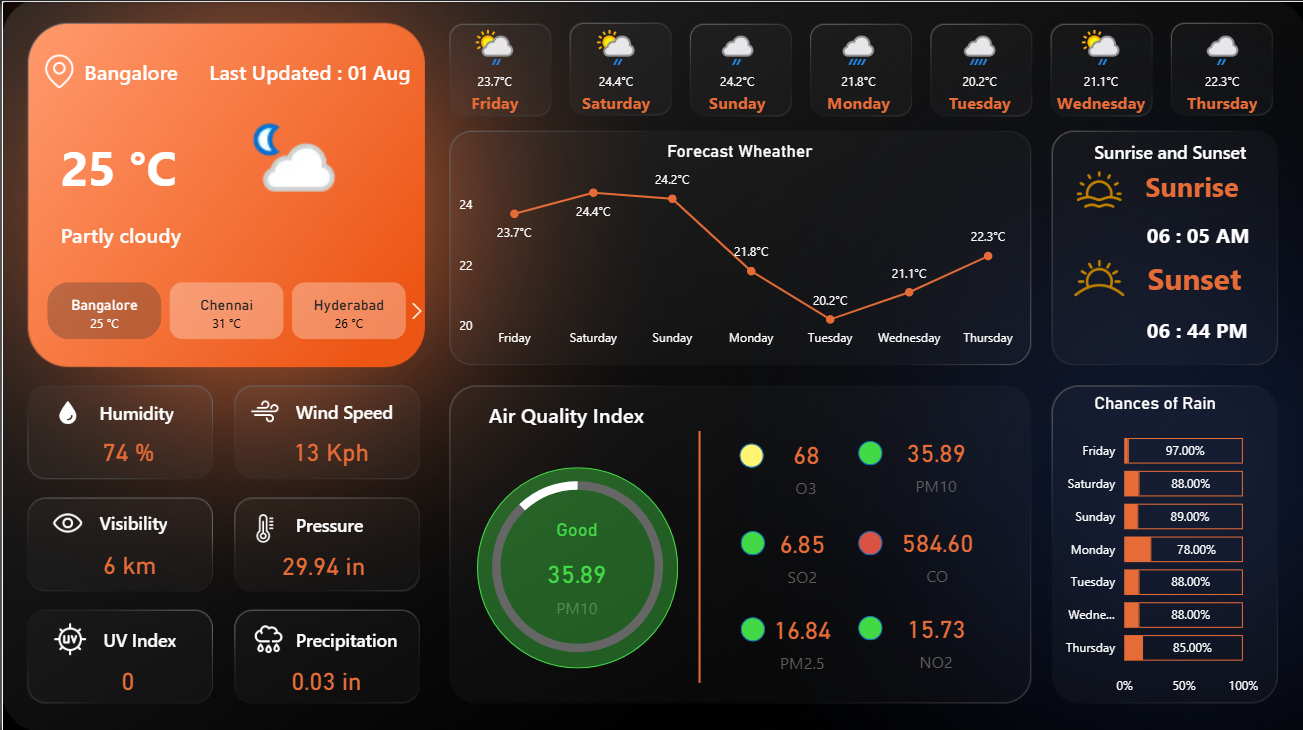

Layout of this report page (visuals, bound fields, positions):
{"tool":"powerbi","page":{"name":"Page 1","canvas":[1280,720],"ordinal":0},"visuals":[{"type":"advancedSlicerVisual","fields":{"Values":["Locations.location.name"]},"box":[20,271.2,403.8,66.2],"z":0},{"type":"shape","box":[57.5,131.2,125,62.5],"z":1000},{"type":"shape","box":[57.5,212.5,300,33.8],"z":2000},{"type":"shape","box":[81.2,52.5,150,32.5],"z":3000},{"type":"shape","box":[203.8,51.2,220,33.8],"z":4000},{"type":"image","box":[32.5,47.5,48.8,42.5],"z":5000},{"type":"cardVisual","fields":{"Data":["Min(current.current.condition.icon)"]},"box":[215,97.5,136.2,115],"z":6000},{"type":"image","box":[47.5,386.2,33.8,35],"z":7000},{"type":"shape","box":[96.2,387.5,95,33.8],"z":8000},{"type":"shape","box":[288.8,386.2,111.2,33.8],"z":9000},{"type":"image","box":[238.8,383.8,37.5,37.5],"z":10000},{"type":"image","box":[42.5,491.2,43.8,43.8],"z":11000},{"type":"shape","box":[96.2,496.2,95,33.8],"z":12000},{"type":"image","box":[238.8,496.2,37.5,43.8],"z":13000},{"type":"shape","box":[288.8,497.5,111.2,33.8],"z":14000},{"type":"image","box":[42.5,605,47.5,43.8],"z":15000},{"type":"shape","box":[100,610,111.2,33.8],"z":16000},{"type":"image","box":[238.8,605,45,43.8],"z":17000},{"type":"shape","box":[288.8,610,111.2,33.8],"z":18000},{"type":"card","fields":{"Values":["_Measures.Humidity"]},"box":[78.8,420,91.2,46.2],"z":19000},{"type":"card","fields":{"Values":["_Measures.Wind_Speed"]},"box":[257.5,420,131.2,46.2],"z":20000},{"type":"card","fields":{"Values":["_Measures.Visibility"]},"box":[75,530,101.2,46.2],"z":21000},{"type":"card","fields":{"Values":["_Measures.Pressure"]},"box":[261.2,531.2,108.8,46.2],"z":22000},{"type":"card","fields":{"Values":["Sum(current.current.uv)"]},"box":[96.2,643.8,56.2,46.2],"z":23000},{"type":"card","fields":{"Values":["_Measures.Precipitation"]},"box":[267.5,643.8,102.5,46.2],"z":24000},{"type":"advancedSlicerVisual","fields":{"Values":["forcast_day.Day_Name"]},"box":[423.8,16.2,837.5,105],"z":25000},{"type":"lineChart","title":"Forecast  Wheather","fields":{"Y":["Sum(forcast_day.forecast.forecastday.day.avgtemp_c)"],"Category":["forcast_day.Day_Name"]},"box":[443.8,137.5,560,211.2],"z":26000},{"type":"shape","box":[1045,131.2,202.5,33.8],"z":27000},{"type":"shape","box":[1108.8,212.5,130,33.8],"z":28000},{"type":"shape","box":[1113.8,305,118.8,32.5],"z":29000},{"type":"shape","box":[1106.2,162.5,122.5,38.8],"z":30000},{"type":"shape","box":[1108.8,251.2,122.5,38.8],"z":31000},{"type":"image","box":[1045,158.8,63.8,53.8],"z":32000},{"type":"image","box":[1017.5,233.8,120,75],"z":33000},{"type":"hundredPercentStackedBarChart","title":"Chances of Rain","fields":{"Y":["current.Left_value_Rain","Sum(forcast_day.forecast.forecastday.day.daily_chance_of_rain)"],"Category":["forcast_day.Day_Name"]},"box":[1026.2,383.8,212.5,306.2],"z":34000},{"type":"shape","box":[452.5,388.8,202.5,33.8],"z":35000},{"type":"card","fields":{"Values":["Sum(current.current.air_quality.pm10)"]},"box":[851.2,420,131.2,68.8],"z":36000},{"type":"card","fields":{"Values":["Sum(current.current.air_quality.co)"]},"box":[852.5,507.5,131.2,68.8],"z":37000},{"type":"card","fields":{"Values":["Sum(current.current.air_quality.no2)"]},"box":[851.2,592.5,131.2,68.8],"z":38000},{"type":"card","fields":{"Values":["Sum(current.current.air_quality.o3)"]},"box":[723.8,422.5,131.2,68.8],"z":39000},{"type":"card","fields":{"Values":["Sum(current.current.air_quality.so2)"]},"box":[720,508.8,131.2,68.8],"z":40000},{"type":"card","fields":{"Values":["Sum(current.current.air_quality.pm2_5)"]},"box":[720,593.8,131.2,68.8],"z":41000},{"type":"shape","box":[723.8,433.8,23.8,23.8],"z":42000},{"type":"shape","box":[840,432.5,23.8,23.8],"z":43000},{"type":"shape","box":[840,520,23.8,23.8],"z":44000},{"type":"shape","box":[725,520,23.8,23.8],"z":45000},{"type":"shape","box":[725,605,23.8,23.8],"z":46000},{"type":"shape","box":[840,603.8,23.8,23.8],"z":47000},{"type":"shape","box":[582.5,422.5,203.8,247.5],"z":48000},{"type":"card","fields":{"Values":["Sum(current.current.air_quality.pm10)"]},"box":[498.8,507.5,132.5,110],"z":49000},{"type":"shape","box":[466.2,457.5,197.5,197.5],"z":50000},{"type":"donutChart","fields":{"Y":["_Measures.Left_value_PM10","Sum(current.current.air_quality.pm10)"]},"box":[455,440,220,230],"z":51000}]}

Visuals, with their boxes in screenshot pixels (x1, y1, x2, y2), scaled from the page's 1280x720 canvas onto the 1303x730 screenshot:
advancedSlicerVisual - Locations.location.name: (left=20, top=275, right=431, bottom=342)
shape: (left=59, top=133, right=186, bottom=196)
shape: (left=59, top=215, right=364, bottom=250)
shape: (left=83, top=53, right=235, bottom=86)
shape: (left=207, top=52, right=431, bottom=86)
image: (left=33, top=48, right=83, bottom=91)
cardVisual - Min(current.current.condition.icon): (left=219, top=99, right=358, bottom=215)
image: (left=48, top=392, right=83, bottom=427)
shape: (left=98, top=393, right=195, bottom=427)
shape: (left=294, top=392, right=407, bottom=426)
image: (left=243, top=389, right=281, bottom=427)
image: (left=43, top=498, right=88, bottom=542)
shape: (left=98, top=503, right=195, bottom=537)
image: (left=243, top=503, right=281, bottom=548)
shape: (left=294, top=504, right=407, bottom=539)
image: (left=43, top=613, right=92, bottom=658)
shape: (left=102, top=618, right=215, bottom=653)
image: (left=243, top=613, right=289, bottom=658)
shape: (left=294, top=618, right=407, bottom=653)
card - _Measures.Humidity: (left=80, top=426, right=173, bottom=473)
card - _Measures.Wind_Speed: (left=262, top=426, right=396, bottom=473)
card - _Measures.Visibility: (left=76, top=537, right=179, bottom=584)
card - _Measures.Pressure: (left=266, top=539, right=377, bottom=585)
card - Sum(current.current.uv): (left=98, top=653, right=155, bottom=700)
card - _Measures.Precipitation: (left=272, top=653, right=377, bottom=700)
advancedSlicerVisual - forcast_day.Day_Name: (left=431, top=16, right=1284, bottom=123)
"Forecast  Wheather" lineChart: (left=452, top=139, right=1022, bottom=354)
shape: (left=1064, top=133, right=1270, bottom=167)
shape: (left=1129, top=215, right=1261, bottom=250)
shape: (left=1134, top=309, right=1255, bottom=342)
shape: (left=1126, top=165, right=1251, bottom=204)
shape: (left=1129, top=255, right=1253, bottom=294)
image: (left=1064, top=161, right=1129, bottom=216)
image: (left=1036, top=237, right=1158, bottom=313)
"Chances of Rain" hundredPercentStackedBarChart: (left=1045, top=389, right=1261, bottom=700)
shape: (left=461, top=394, right=667, bottom=428)
card - Sum(current.current.air_quality.pm10): (left=866, top=426, right=1000, bottom=496)
card - Sum(current.current.air_quality.co): (left=868, top=515, right=1001, bottom=584)
card - Sum(current.current.air_quality.no2): (left=866, top=601, right=1000, bottom=670)
card - Sum(current.current.air_quality.o3): (left=737, top=428, right=870, bottom=498)
card - Sum(current.current.air_quality.so2): (left=733, top=516, right=866, bottom=586)
card - Sum(current.current.air_quality.pm2_5): (left=733, top=602, right=866, bottom=672)
shape: (left=737, top=440, right=761, bottom=464)
shape: (left=855, top=439, right=879, bottom=463)
shape: (left=855, top=527, right=879, bottom=551)
shape: (left=738, top=527, right=762, bottom=551)
shape: (left=738, top=613, right=762, bottom=638)
shape: (left=855, top=612, right=879, bottom=636)
shape: (left=593, top=428, right=800, bottom=679)
card - Sum(current.current.air_quality.pm10): (left=508, top=515, right=643, bottom=626)
shape: (left=475, top=464, right=676, bottom=664)
donutChart - _Measures.Left_value_PM10 x Sum(current.current.air_quality.pm10): (left=463, top=446, right=687, bottom=679)
